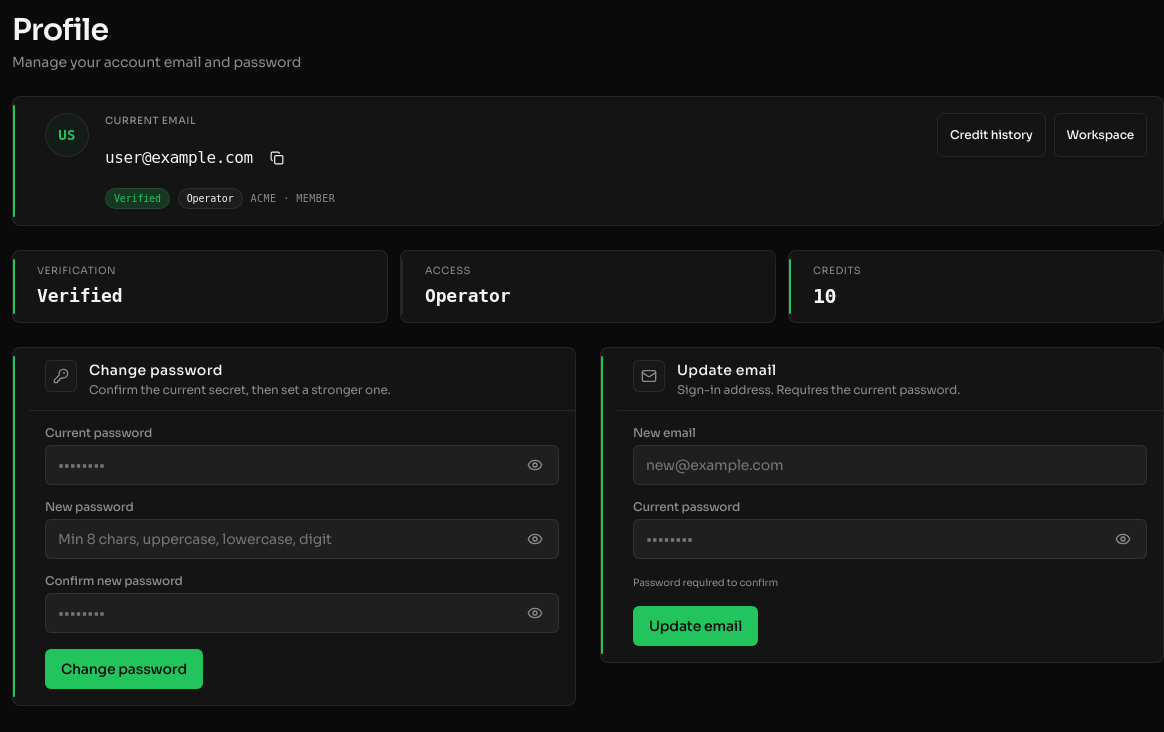
Test case: Profile › Change Password form › shows success message after successful change
In the password field with id "current-password": (302, 465) [45,445,559,485], type "current"
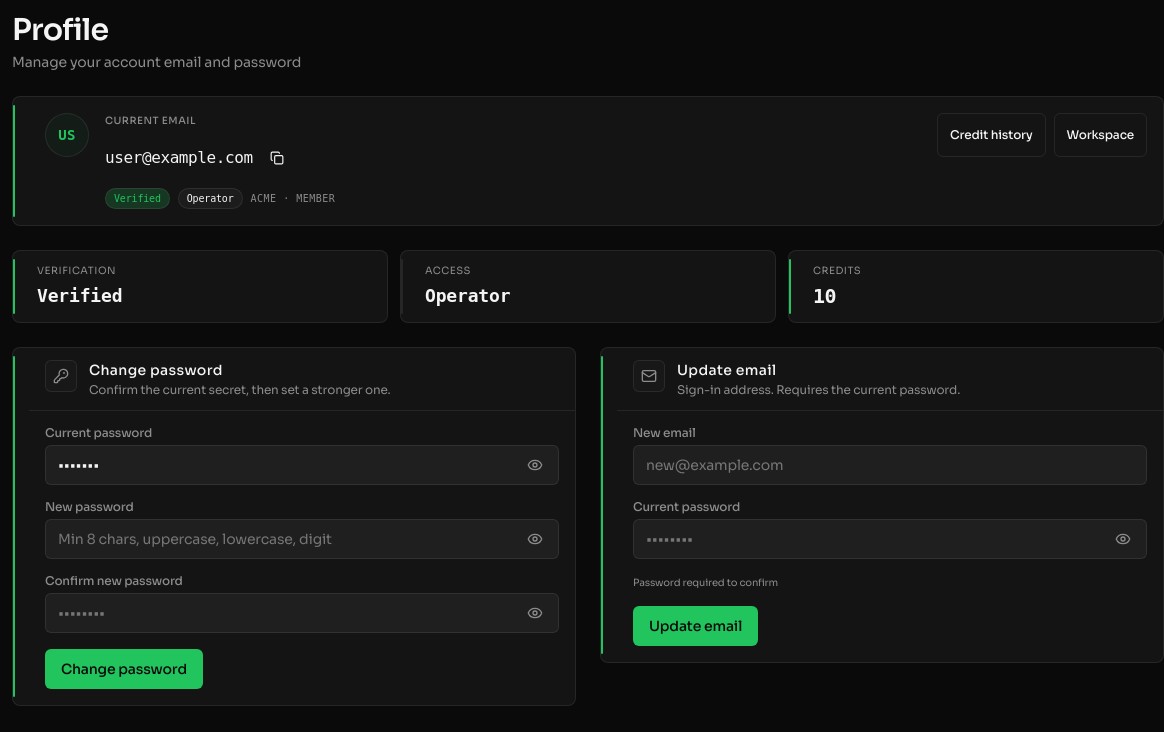
In the password field with id "new-password": (302, 539) [45,519,559,559], type "newpass123"
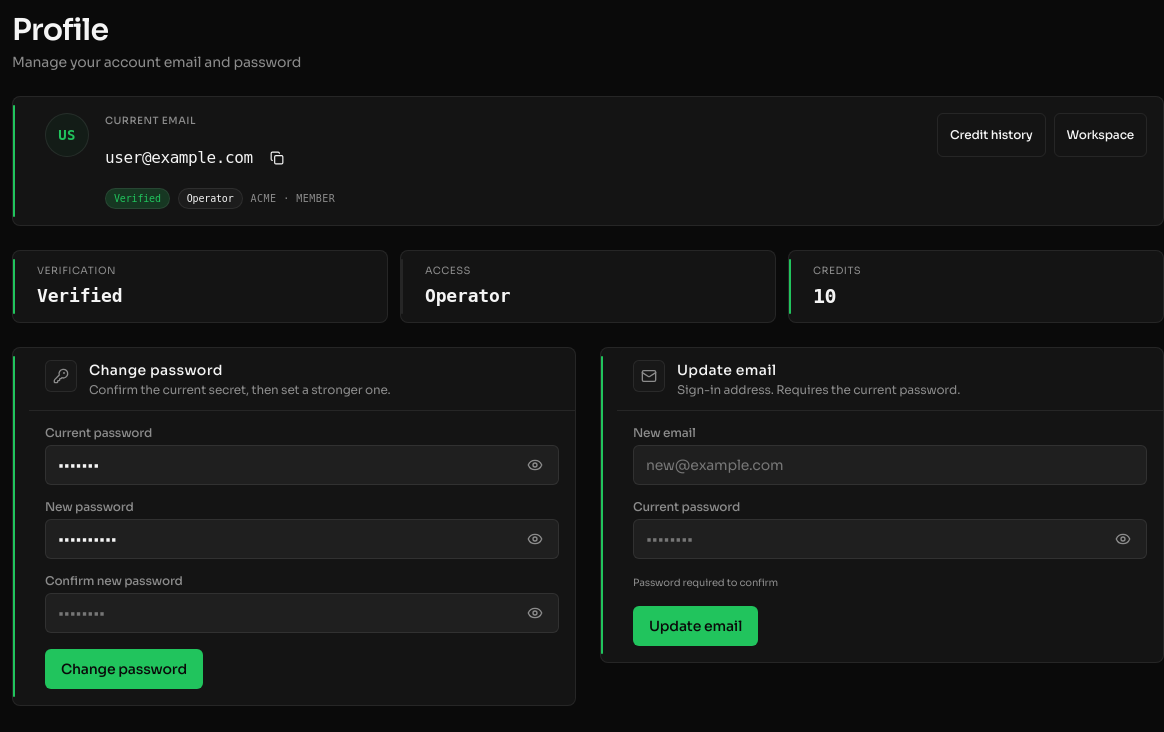
In the password field with id "confirm-password": (302, 613) [45,593,559,633], type "newpass123"
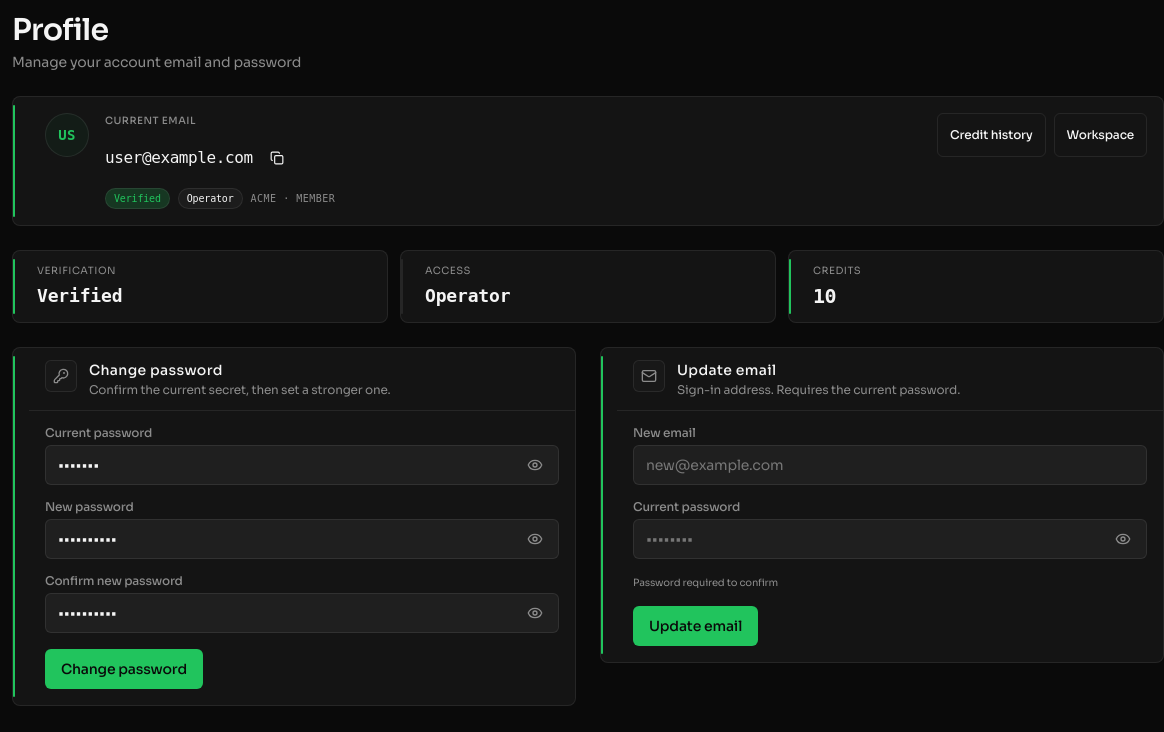
Click the button "Change password": click(124, 669) [45,649,203,689]
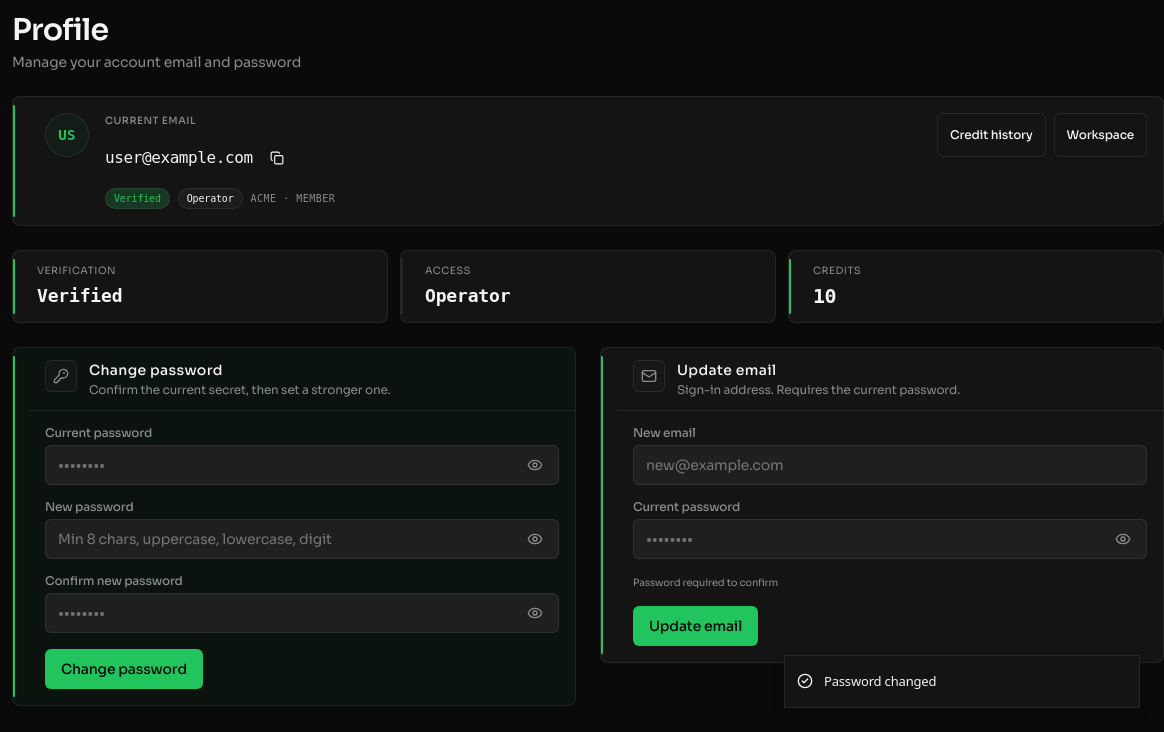
Now the text "Password changed" is shown, box [824,672,936,691]
